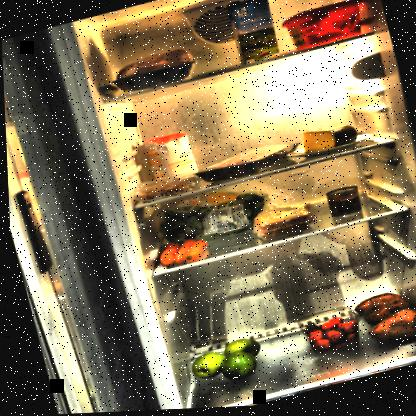apple: (179, 334, 268, 395)
butter: (277, 0, 371, 57)
carrot: (150, 234, 213, 273)
cheese: (297, 120, 358, 159)
chicken: (107, 42, 203, 100)
corn: (321, 186, 362, 223)
ground_beef: (191, 138, 304, 190)
milk: (223, 0, 284, 70)
spinach: (151, 182, 275, 256)
strawberries: (294, 311, 365, 362)
sweet_potato: (345, 284, 415, 360)
